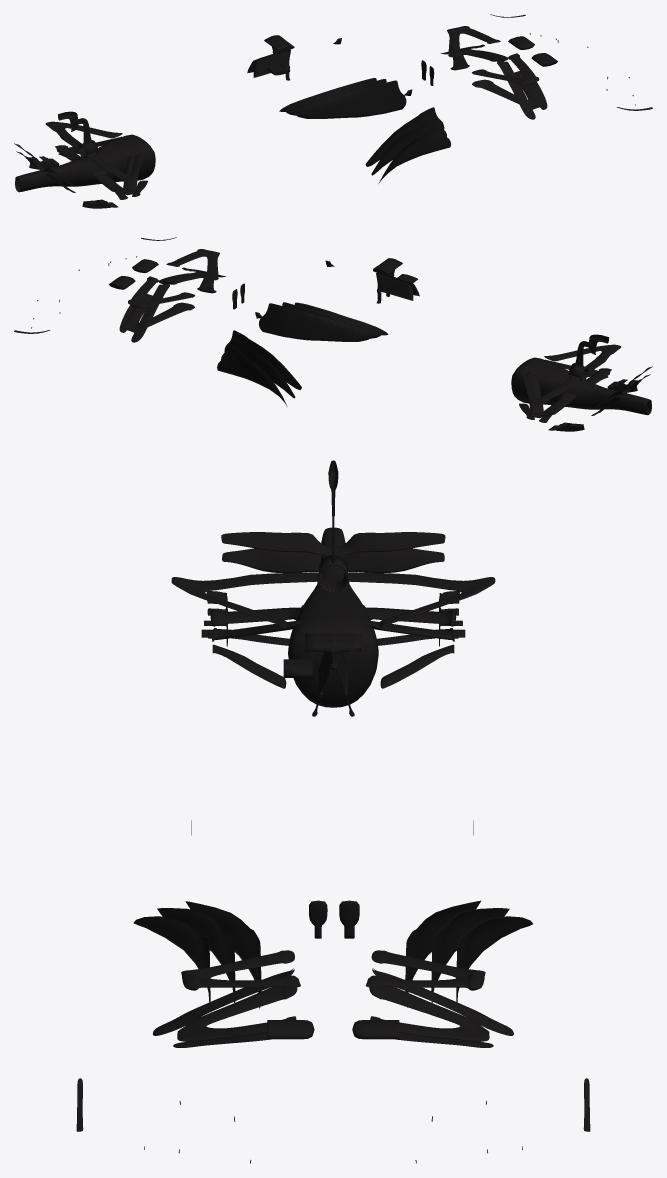
The model's file is Carbon.fbx.
3 views of the same model, one above another, from view 1: azimuth 30°, elevation 25°; view 2: azimuth 150°, elevation 25°; view 3: azimuth 270°, elevation 25° (orthographic). The views are drawn at different scales.
Visible parts, largest first — view 1: Carbon; view 2: Carbon; view 3: Carbon.
Part boxes in pixels (<box>): Carbon: <box>14,14,652,208</box>; Carbon: <box>14,237,652,431</box>; Carbon: <box>76,460,590,1163</box>.
Bounding box in the file's own units: 4.85 × 0.9494 × 1.83.
